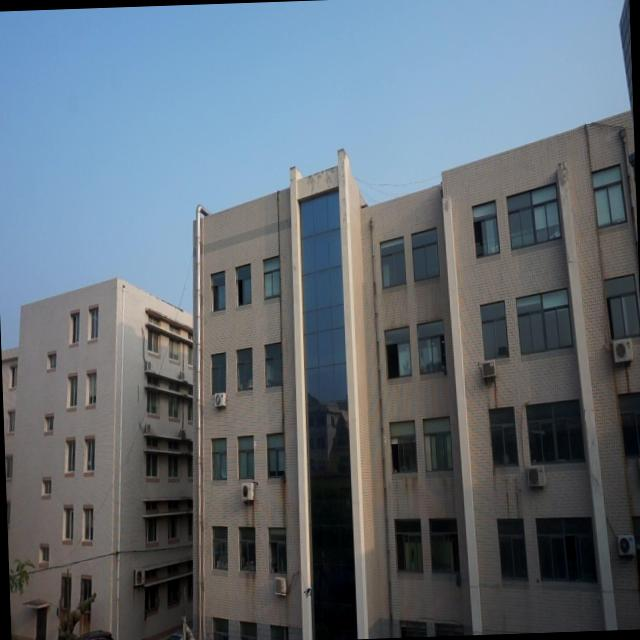drone: (301, 582, 314, 602)
